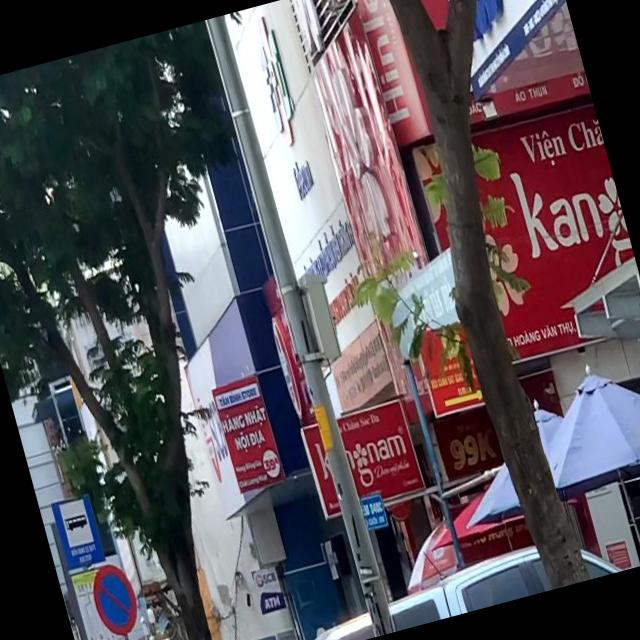P-131a: (85, 560, 144, 640)
